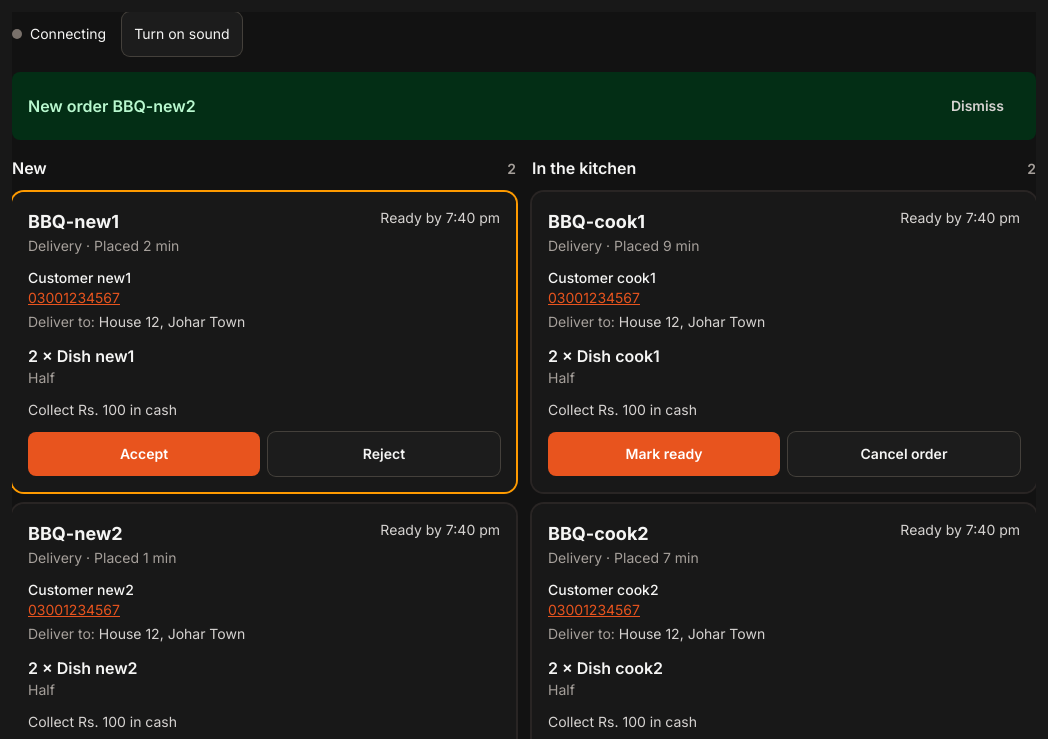
Test case: the order board › live updates › announces a new order and shows it
This screenshot has width=1048, height=739.
expect the heading "BBQ-new1" is shown: met, box x1=28 y1=211 x2=119 y2=232
expect the text "New order BBQ-new2" is shown: met, box x1=28 y1=94 x2=196 y2=118
Click the button "Dismiss" at (977, 106), box x1=935 y1=84 x2=1020 y2=128
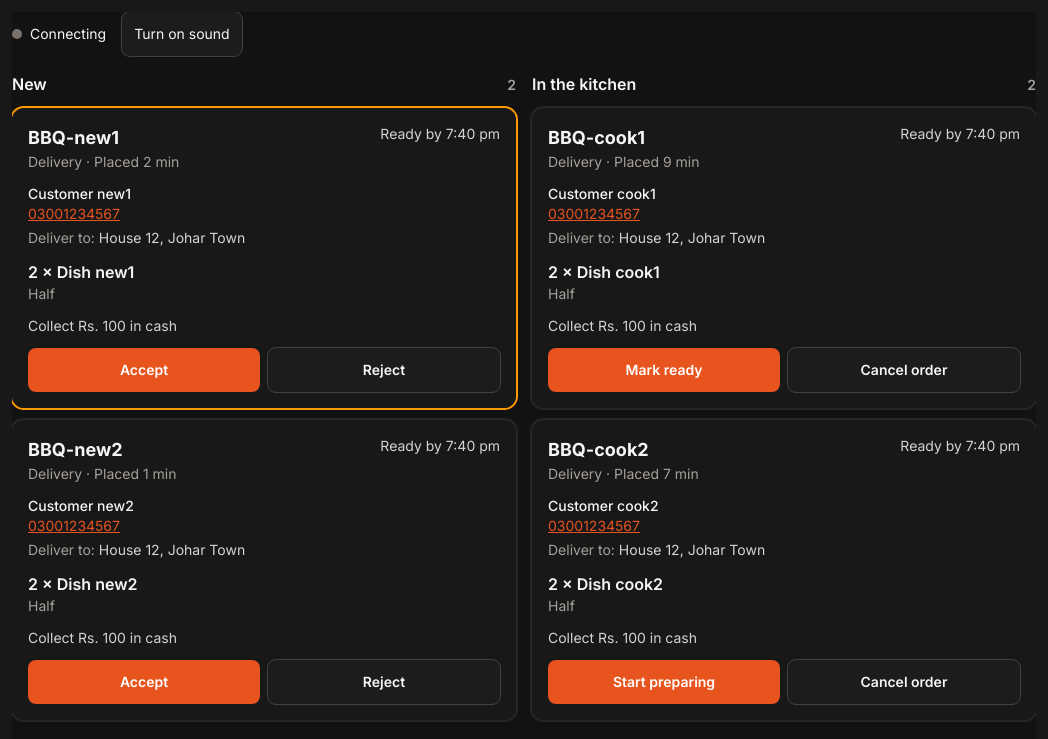
expect the text "New order BBQ-new2" is gone: met
